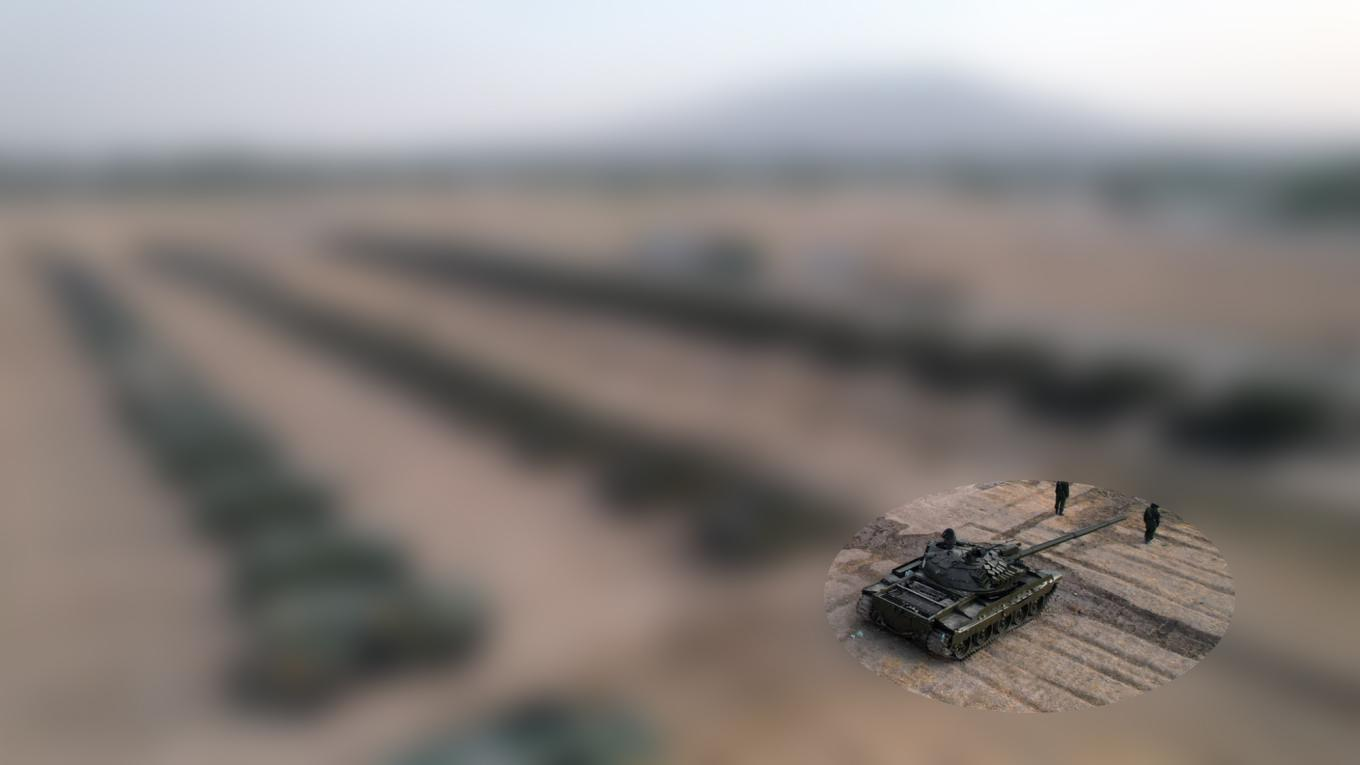tank: (854, 506, 1138, 668)
